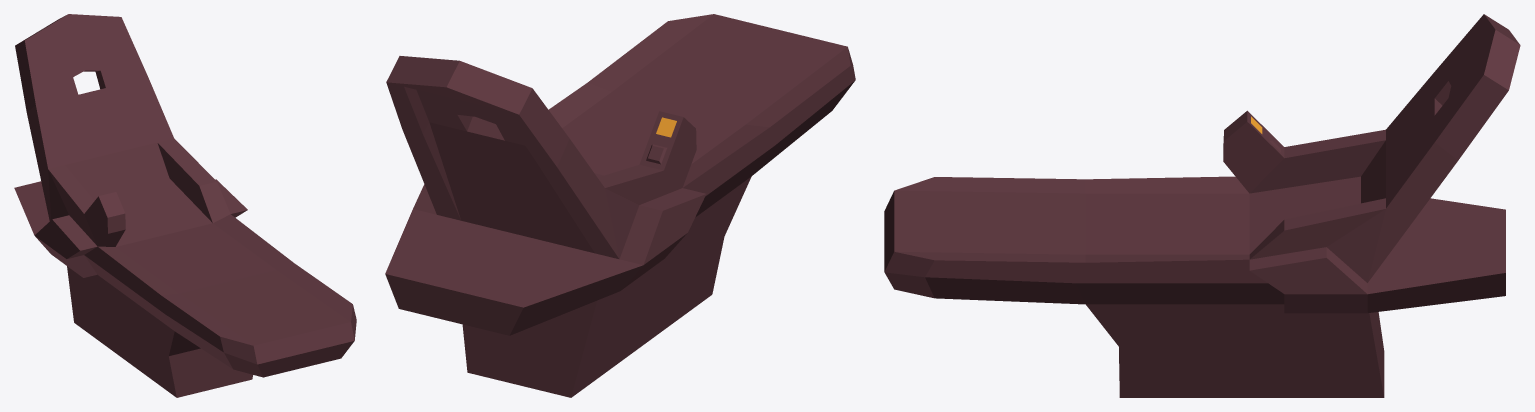
The model's file is scifi-bed-small.fbx.
3 renders of one model, left to right at view 1: azimuth 30°, elevation 25°; view 2: azimuth 150°, elevation 25°; view 3: azimuth 270°, elevation 25°, orthographic. The views are drawn at different scales.
Parts seen in each view (by area): view 1: scifi-bed-small; view 2: scifi-bed-small; view 3: scifi-bed-small.
Part boxes in pixels (x1,y1,x2,y2): scifi-bed-small: (14, 14, 356, 397); scifi-bed-small: (385, 14, 855, 397); scifi-bed-small: (884, 14, 1520, 397).
Size of the model in its own units: 0.7658 by 1.17 by 1.95.
